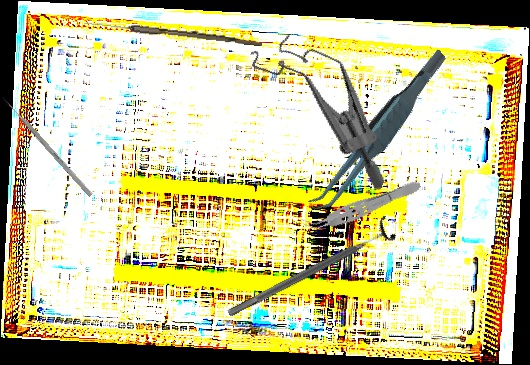Fixation Ring: (222, 214, 398, 326)
Pusher: (0, 95, 94, 198)
Speculum: (220, 21, 425, 193)
Surgical Spoon: (83, 19, 263, 47)
Tissue Forceps: (283, 48, 474, 216), (301, 174, 424, 239)
